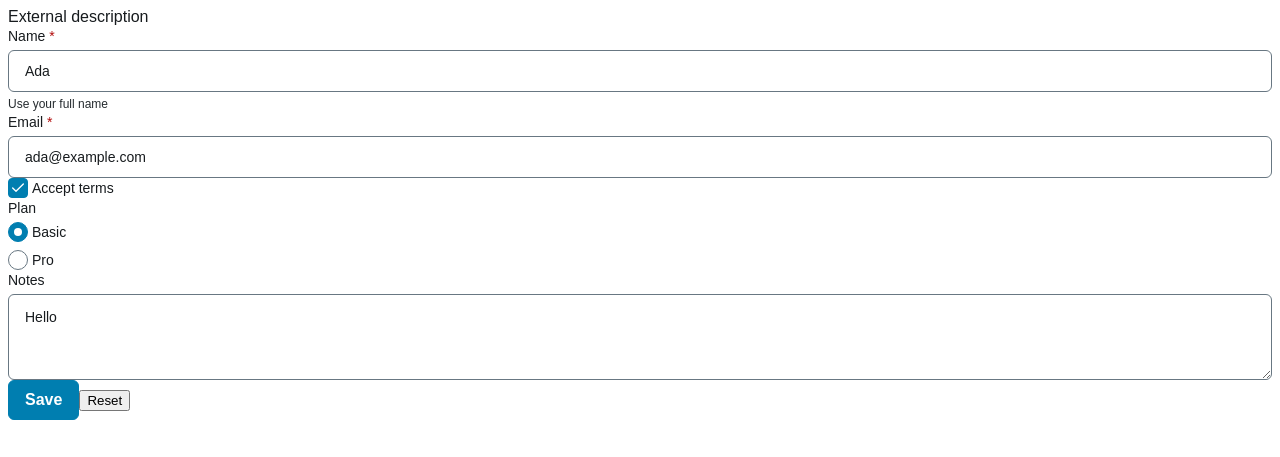
Test case: RHF-ready fields › combines external descriptions, help, and validation feedback and clears errors on blur
The width and height of the screenshot is (1280, 457).
Clear the field labelled "Name": (640, 71) [9, 52, 1271, 90]
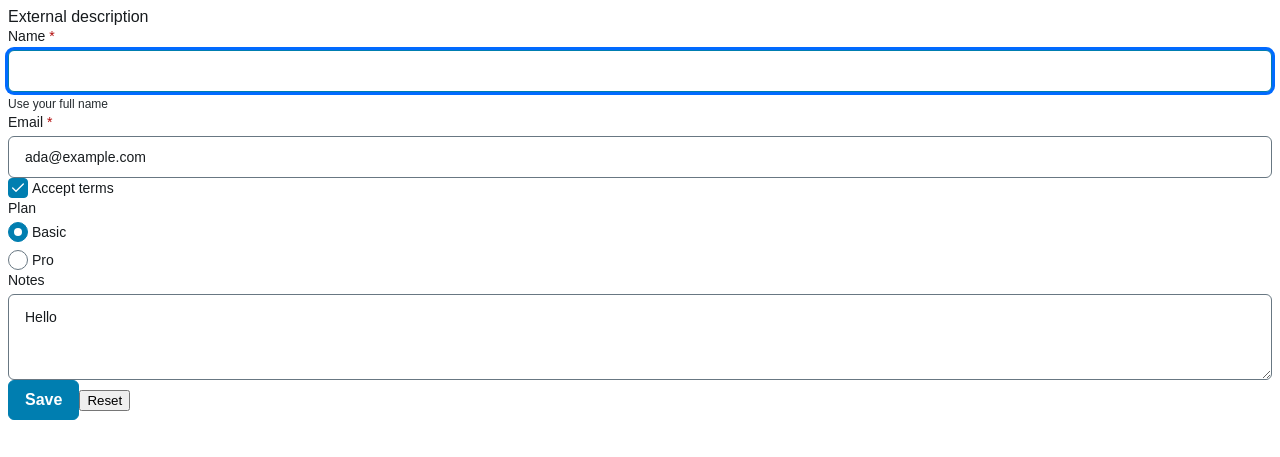
Press Tab
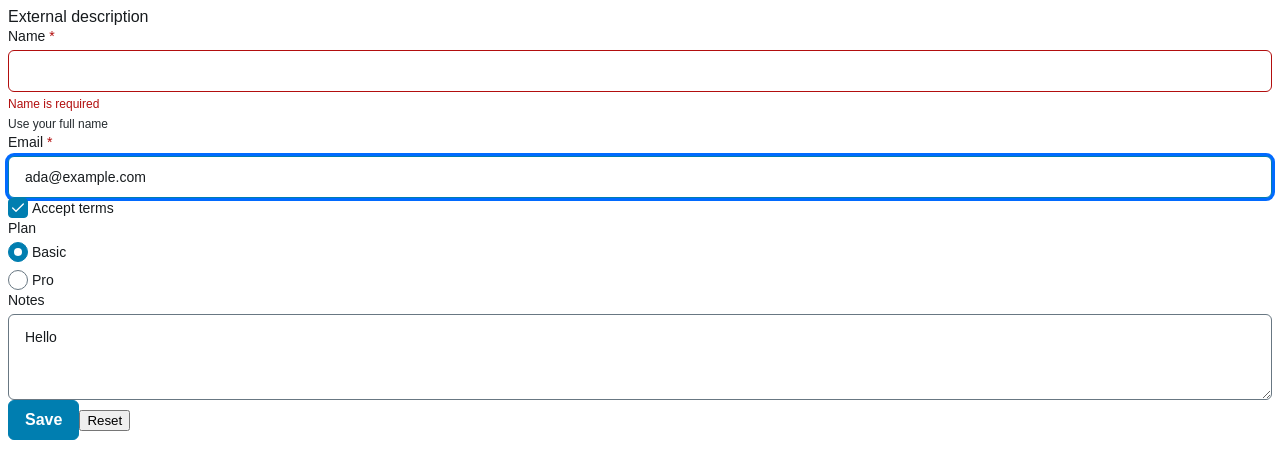
Now the message reads "Name is required", box [8, 97, 99, 111]
In the field labelled "Name": (640, 71) [9, 52, 1271, 90], type "Grace"
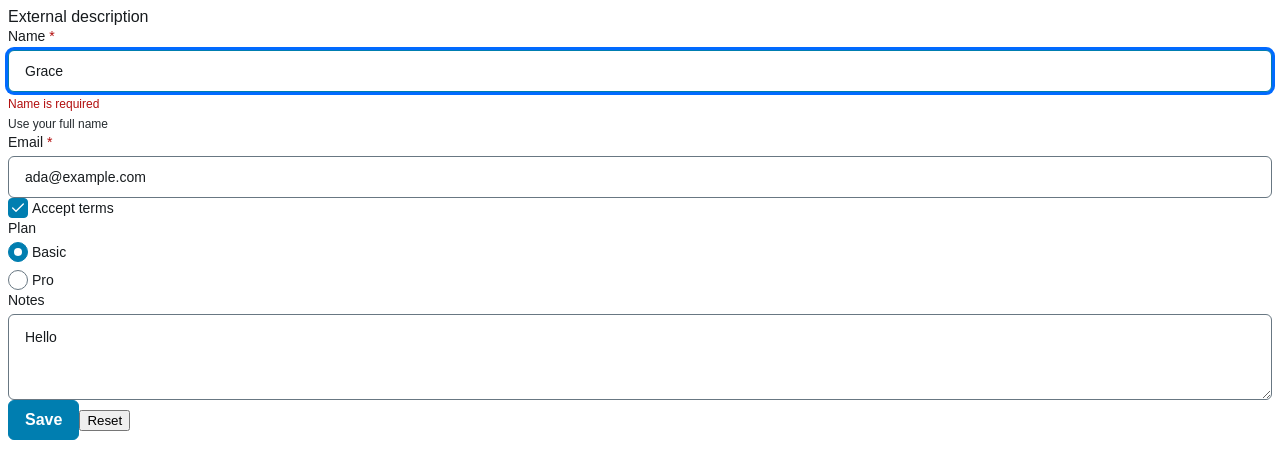
Press Tab
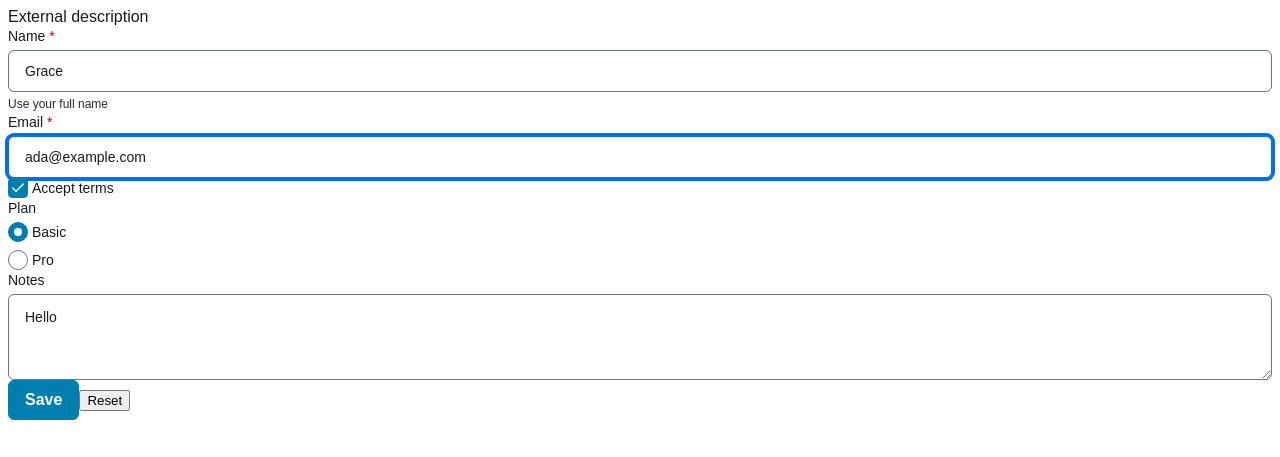
Now the message "Name is required" is gone
